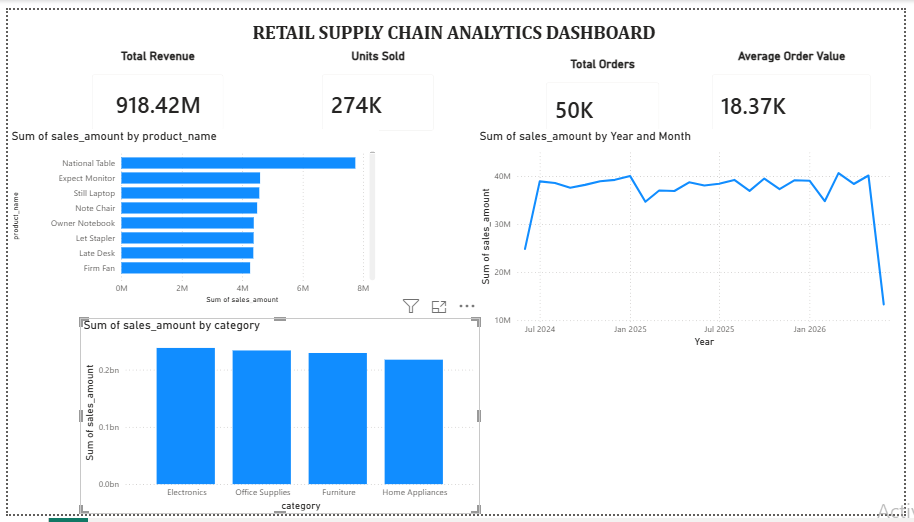

What the dashboard file says about the page in this screenshot:
{"tool":"powerbi","page":{"name":"Page 1","canvas":[1280,720],"ordinal":0},"visuals":[{"type":"cardVisual","title":"Total Revenue","fields":{"Data":["Sum(orders.sales_amount)"]},"box":[103.1,55.7,222.6,134.2],"z":0},{"type":"cardVisual","title":"Total Orders","fields":{"Data":["Count(orders.order_id)"]},"box":[751.3,67.1,196.4,124.4],"z":1000},{"type":"cardVisual","title":"Units Sold","fields":{"Data":["Sum(orders.quantity)"]},"box":[432.1,55.7,194.8,134.2],"z":2000},{"type":"cardVisual","title":"Average Order Value","fields":{"Data":["Avg(orders.sales_amount)"]},"box":[988.6,55.7,261.9,135.9],"z":3000},{"type":"lineChart","fields":{"Y":["Sum(orders.sales_amount)"],"Category":["orders.order_date.Variation.Date Hierarchy.Year","orders.order_date.Variation.Date Hierarchy.Month"]},"box":[668.9,170.5,611.5,316.4],"z":4000},{"type":"clusteredColumnChart","fields":{"Category":["products.category"],"Y":["Sum(orders.sales_amount)"]},"box":[103.3,439.3,570.5,280.3],"z":5000},{"type":"clusteredBarChart","fields":{"Category":["products.product_name"],"Y":["Sum(orders.sales_amount)"]},"box":[0,170.5,529.5,254.1],"z":6000},{"type":"textbox","box":[344.5,11.3,590.1,43.8],"z":7000}]}

Visuals, with their boxes in screenshot pixels (x1, y1, x2, y2), scaled from the page's 1280x720 canvas onto the 914x522 screenshot:
"Total Revenue" cardVisual: [x1=74, y1=40, x2=233, y2=138]
"Total Orders" cardVisual: [x1=536, y1=49, x2=677, y2=139]
"Units Sold" cardVisual: [x1=309, y1=40, x2=448, y2=138]
"Average Order Value" cardVisual: [x1=706, y1=40, x2=893, y2=139]
lineChart - Sum(orders.sales_amount) x orders.order_date.Variation.Date Hierarchy.Year: [x1=478, y1=124, x2=913, y2=353]
clusteredColumnChart - products.category x Sum(orders.sales_amount): [x1=74, y1=318, x2=481, y2=521]
clusteredBarChart - products.product_name x Sum(orders.sales_amount): [x1=0, y1=124, x2=378, y2=308]
textbox: [x1=246, y1=8, x2=667, y2=40]
